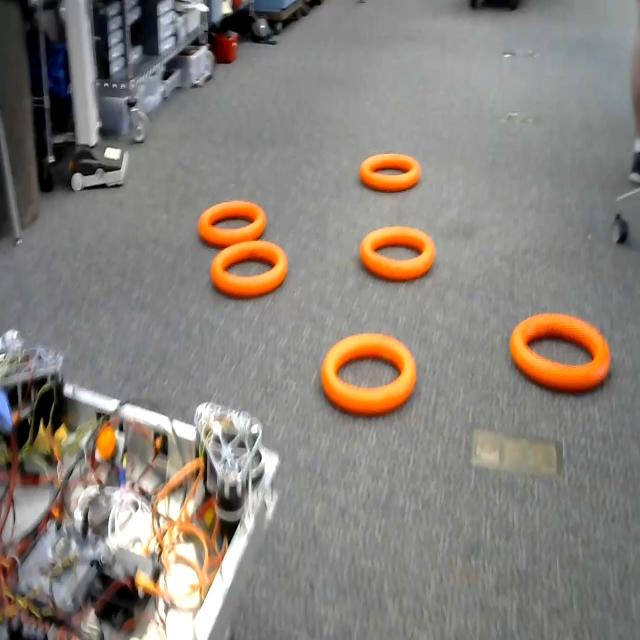note: (508, 305, 611, 395), (319, 334, 423, 419), (359, 225, 439, 289), (193, 196, 276, 242), (213, 247, 285, 295), (358, 148, 426, 196)
